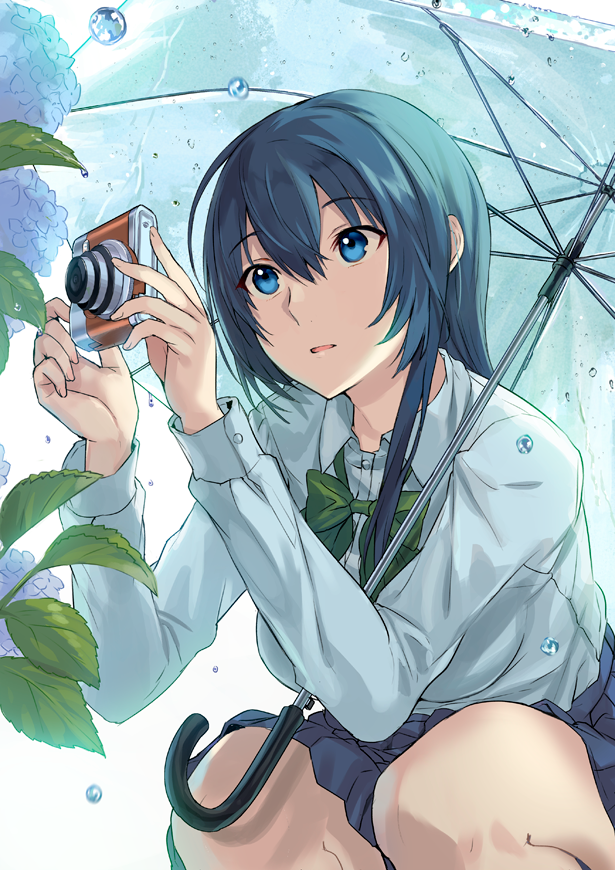纸片人正脸: (180, 84, 493, 406)
